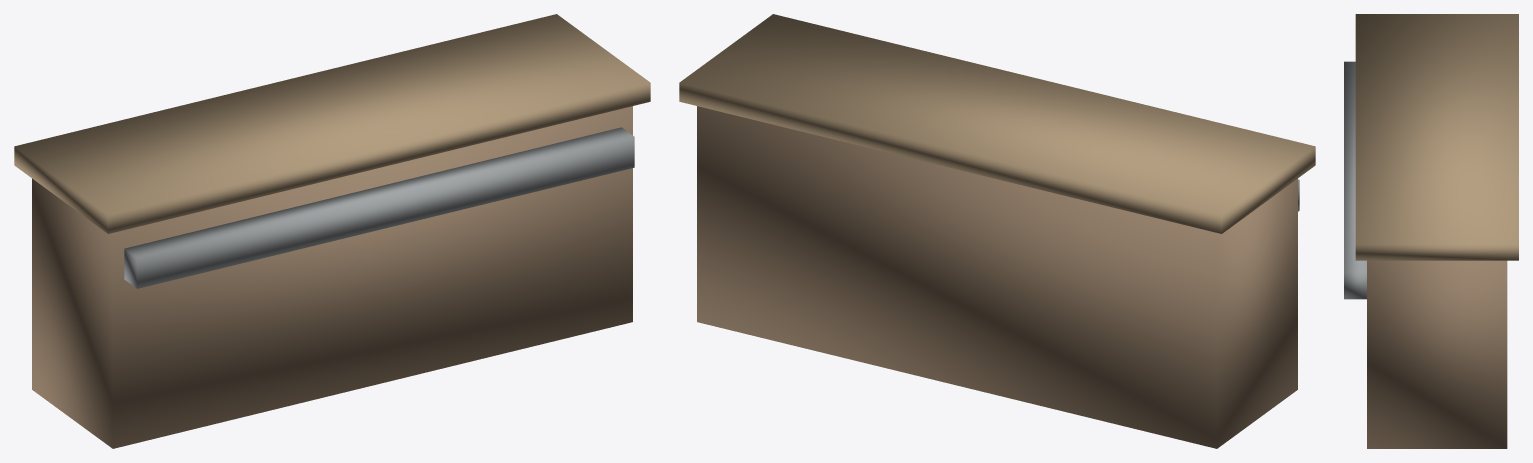
Rendered from bar_counter.glb.
3 views of the same model, side by side, from view 1: azimuth 30°, elevation 25°; view 2: azimuth 150°, elevation 25°; view 3: azimuth 270°, elevation 25° (orthographic). The views are drawn at different scales.
Parts seen in each view (by area): view 1: world; view 2: world; view 3: world.
Boxes of the visible parts, x1,y1,x2,y2 form: world: (14, 14, 650, 448); world: (679, 14, 1315, 448); world: (1344, 14, 1518, 448).
Bounding box in the file's own units: 2.4 × 1.02 × 0.77.
